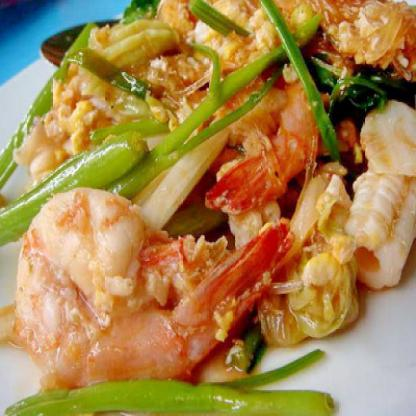Pad Thai: (4, 3, 415, 414)
